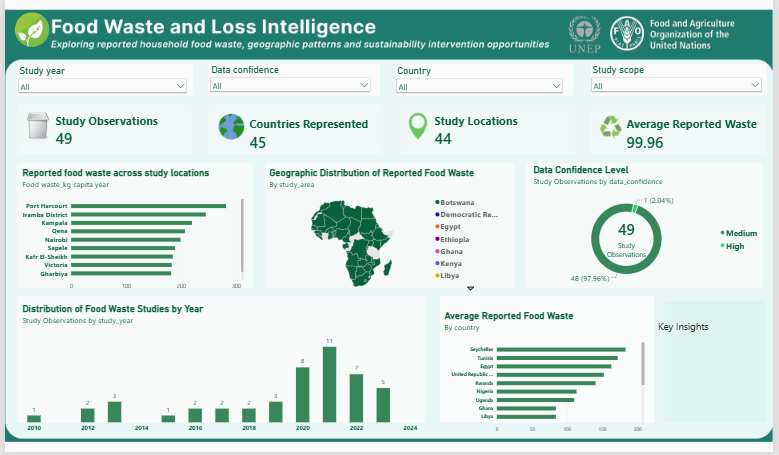

This screenshot's page, from the dashboard's own definition file:
{"tool":"powerbi","page":{"name":"Africa Food Waste (UNEP)","canvas":[1920,1080],"ordinal":0},"visuals":[{"type":"cardVisual","fields":{"Data":["_Measures.Total UNEP Observations"]},"box":[110,200,349.3,103.4],"z":0},{"type":"cardVisual","fields":{"Data":["_Measures.UNEP Study Locations"]},"box":[1057.5,200,342.4,103.4],"z":1000},{"type":"cardVisual","fields":{"Data":["_Measures.Average Food Waste"]},"box":[1537.5,200,383.7,121.8],"z":2000},{"type":"barChart","title":"Average Reported  Food Waste","fields":{"Category":["UNEP Food Waste.country"],"Y":["_Measures.Average Reported Waste"]},"box":[1083.7,711.6,532.6,339.5],"z":3000},{"type":"shapeMap","title":"Geographic Distribution of Reported Food Waste","fields":{"Value":["_Measures.Average Reported Waste"],"Category":["Africa.country"],"Series":["UNEP Food Waste.country"]},"box":[645.7,356.2,622.7,340.1],"z":4000},{"type":"donutChart","title":"Data Confidence Level","fields":{"Category":["UNEP Food Waste.data_confidence"],"Y":["_Measures.Study Observations"]},"box":[1305.2,347,602,330.9],"z":5000},{"type":"clusteredBarChart","title":"Reported food waste across study locations","fields":{"Category":["UNEP Food Waste.study_area"],"Y":["Sum(UNEP Food Waste.food_waste_kg_capita_year)"]},"box":[27.6,356.2,586,340.1],"z":6000},{"type":"columnChart","title":"Distribution of Food Waste Studies by Year","fields":{"Category":["UNEP Food Waste.study_year"],"Y":["_Measures.Study Observations"]},"box":[27.5,695,1030,357.5],"z":7000},{"type":"slicer","fields":{"Values":["UNEP Food Waste.country"]},"box":[972,112.6,427.4,87.3],"z":8000},{"type":"slicer","fields":{"Values":["UNEP Food Waste.data_confidence"]},"box":[507.8,110.3,411.3,82.7],"z":9000},{"type":"slicer","fields":{"Values":["UNEP Food Waste.study_scope"]},"box":[1459.1,110.3,436.6,82.7],"z":10000},{"type":"slicer","fields":{"Values":["UNEP Food Waste.study_year"]},"box":[27.6,112.6,432,75.8],"z":11000},{"type":"cardVisual","fields":{"Data":["_Measures.Countries Represented"]},"box":[592.5,200,365.4,121.8],"z":12000},{"type":"textbox","box":[1615,712,292,338],"z":13000},{"type":"textbox","box":[1645,712.5,262.5,310],"z":14000}]}

Visuals, with their boxes on the page's 1920x1080 design canvas (x1, y1, x2, y2). These are canvas units, not pixel positions in the 779x455 screenshot, which may show the page scaled, cropped or inside an application window:
cardVisual - _Measures.Total UNEP Observations: Rect(110, 200, 459, 303)
cardVisual - _Measures.UNEP Study Locations: Rect(1058, 200, 1400, 303)
cardVisual - _Measures.Average Food Waste: Rect(1538, 200, 1921, 322)
"Average Reported  Food Waste" barChart: Rect(1084, 712, 1616, 1051)
"Geographic Distribution of Reported Food Waste" shapeMap: Rect(646, 356, 1268, 696)
"Data Confidence Level" donutChart: Rect(1305, 347, 1907, 678)
"Reported food waste across study locations" clusteredBarChart: Rect(28, 356, 614, 696)
"Distribution of Food Waste Studies by Year" columnChart: Rect(28, 695, 1058, 1052)
slicer - UNEP Food Waste.country: Rect(972, 113, 1399, 200)
slicer - UNEP Food Waste.data_confidence: Rect(508, 110, 919, 193)
slicer - UNEP Food Waste.study_scope: Rect(1459, 110, 1896, 193)
slicer - UNEP Food Waste.study_year: Rect(28, 113, 460, 188)
cardVisual - _Measures.Countries Represented: Rect(592, 200, 958, 322)
textbox: Rect(1615, 712, 1907, 1050)
textbox: Rect(1645, 712, 1908, 1022)
